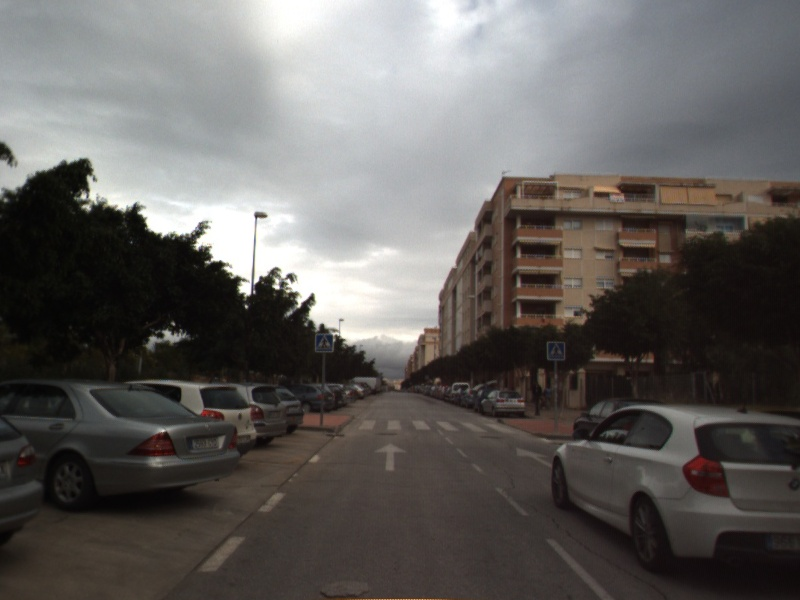STRAIGHT: (372, 441, 409, 472), (514, 446, 553, 469)
